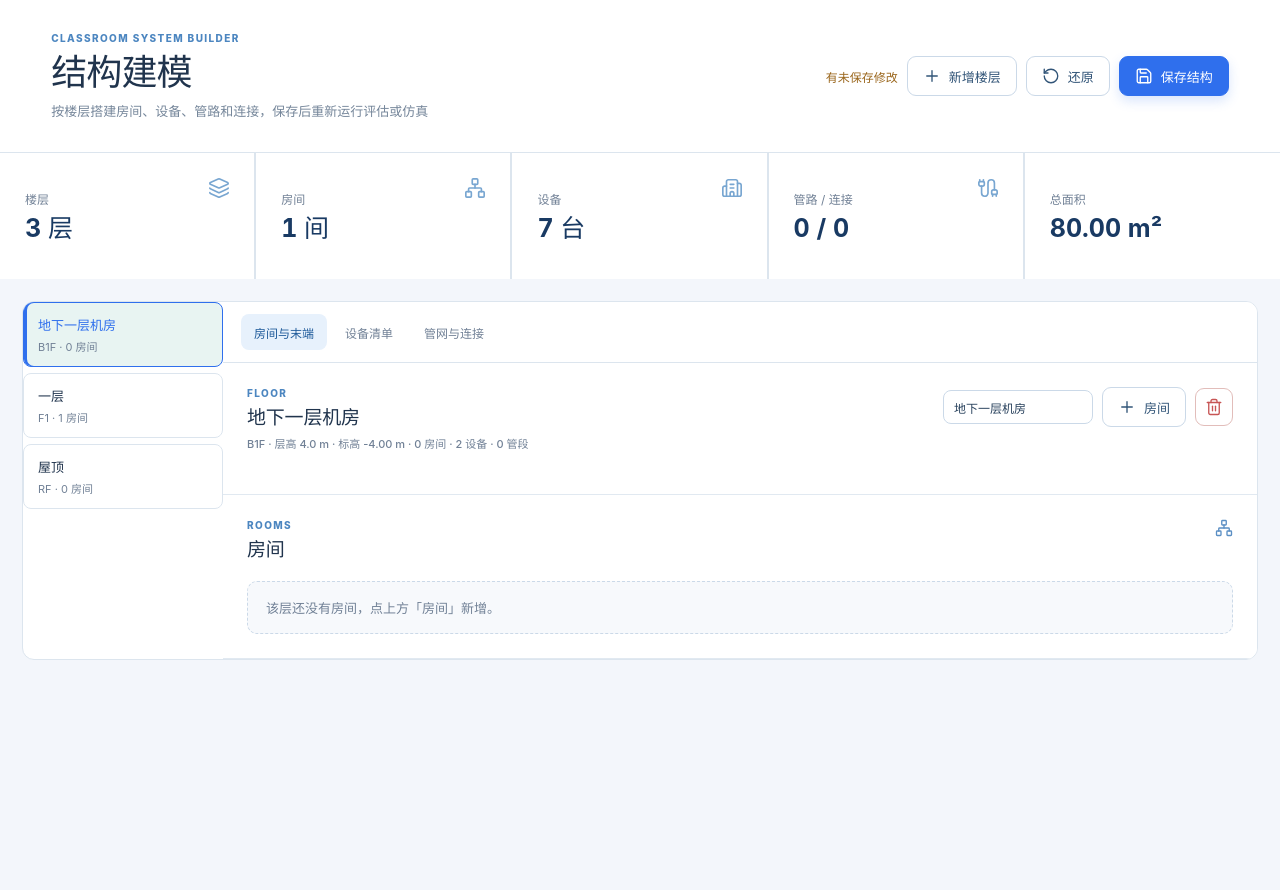
Test: BuildingView placement and terminal separation › only offers canonical FCU/AHU/fresh-air terminals for room service
Note: 默认选中按 level 升序的第一个楼层（B1F），先切到一层（房间所在层）
Step 1. Click the button with class "floor-nav-item" showing "一层 F1 · 1 房间" → click(123, 406), box [23, 373, 223, 438]
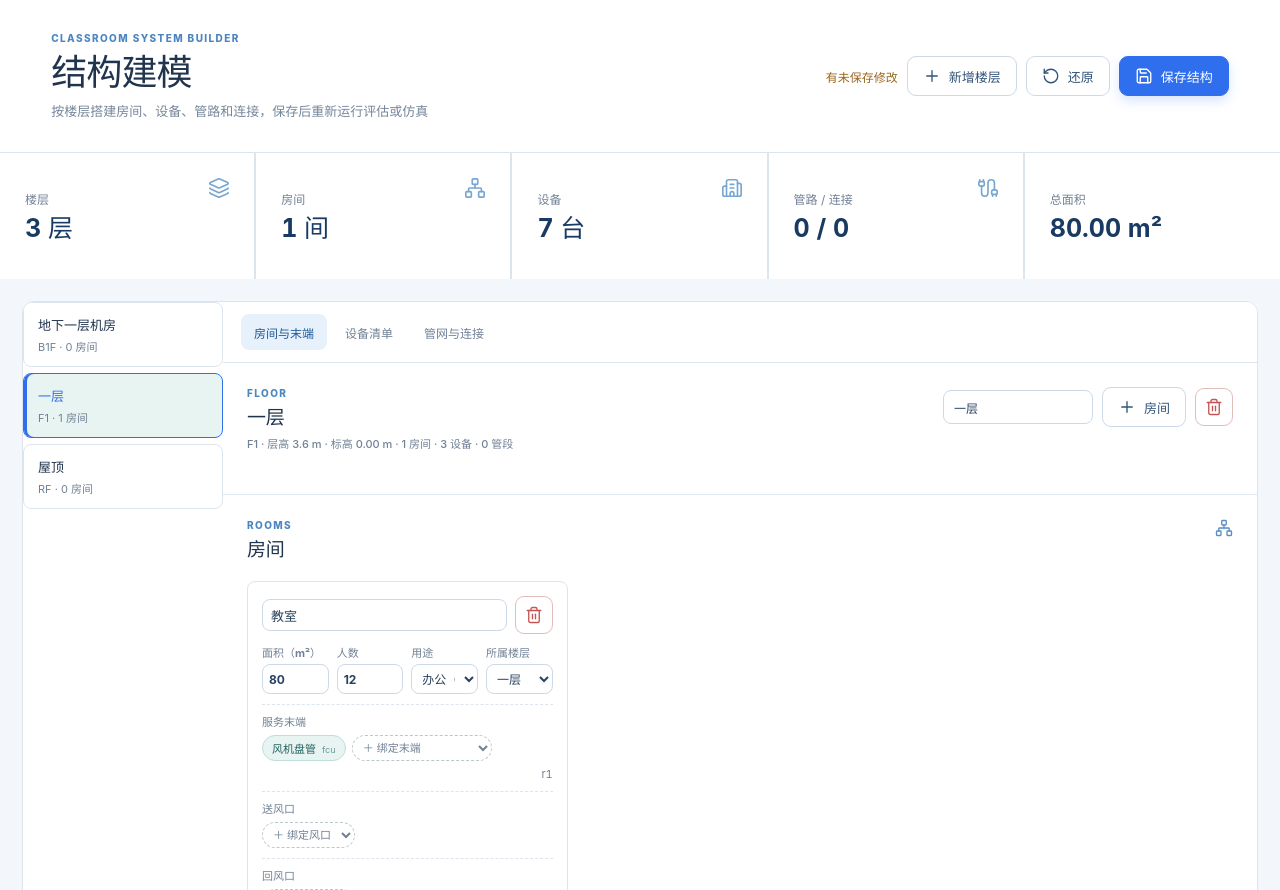
Now the dropdown named "教室 添加末端" is shown, box [352, 735, 492, 761]
Now the button with class "terminal-chip" shows "fcu", box [262, 735, 346, 761]
